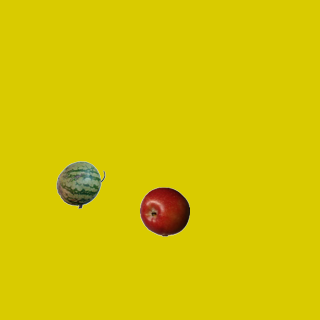Apple Braeburn: (139, 186, 189, 236)
Watermelon: (55, 159, 105, 209)
